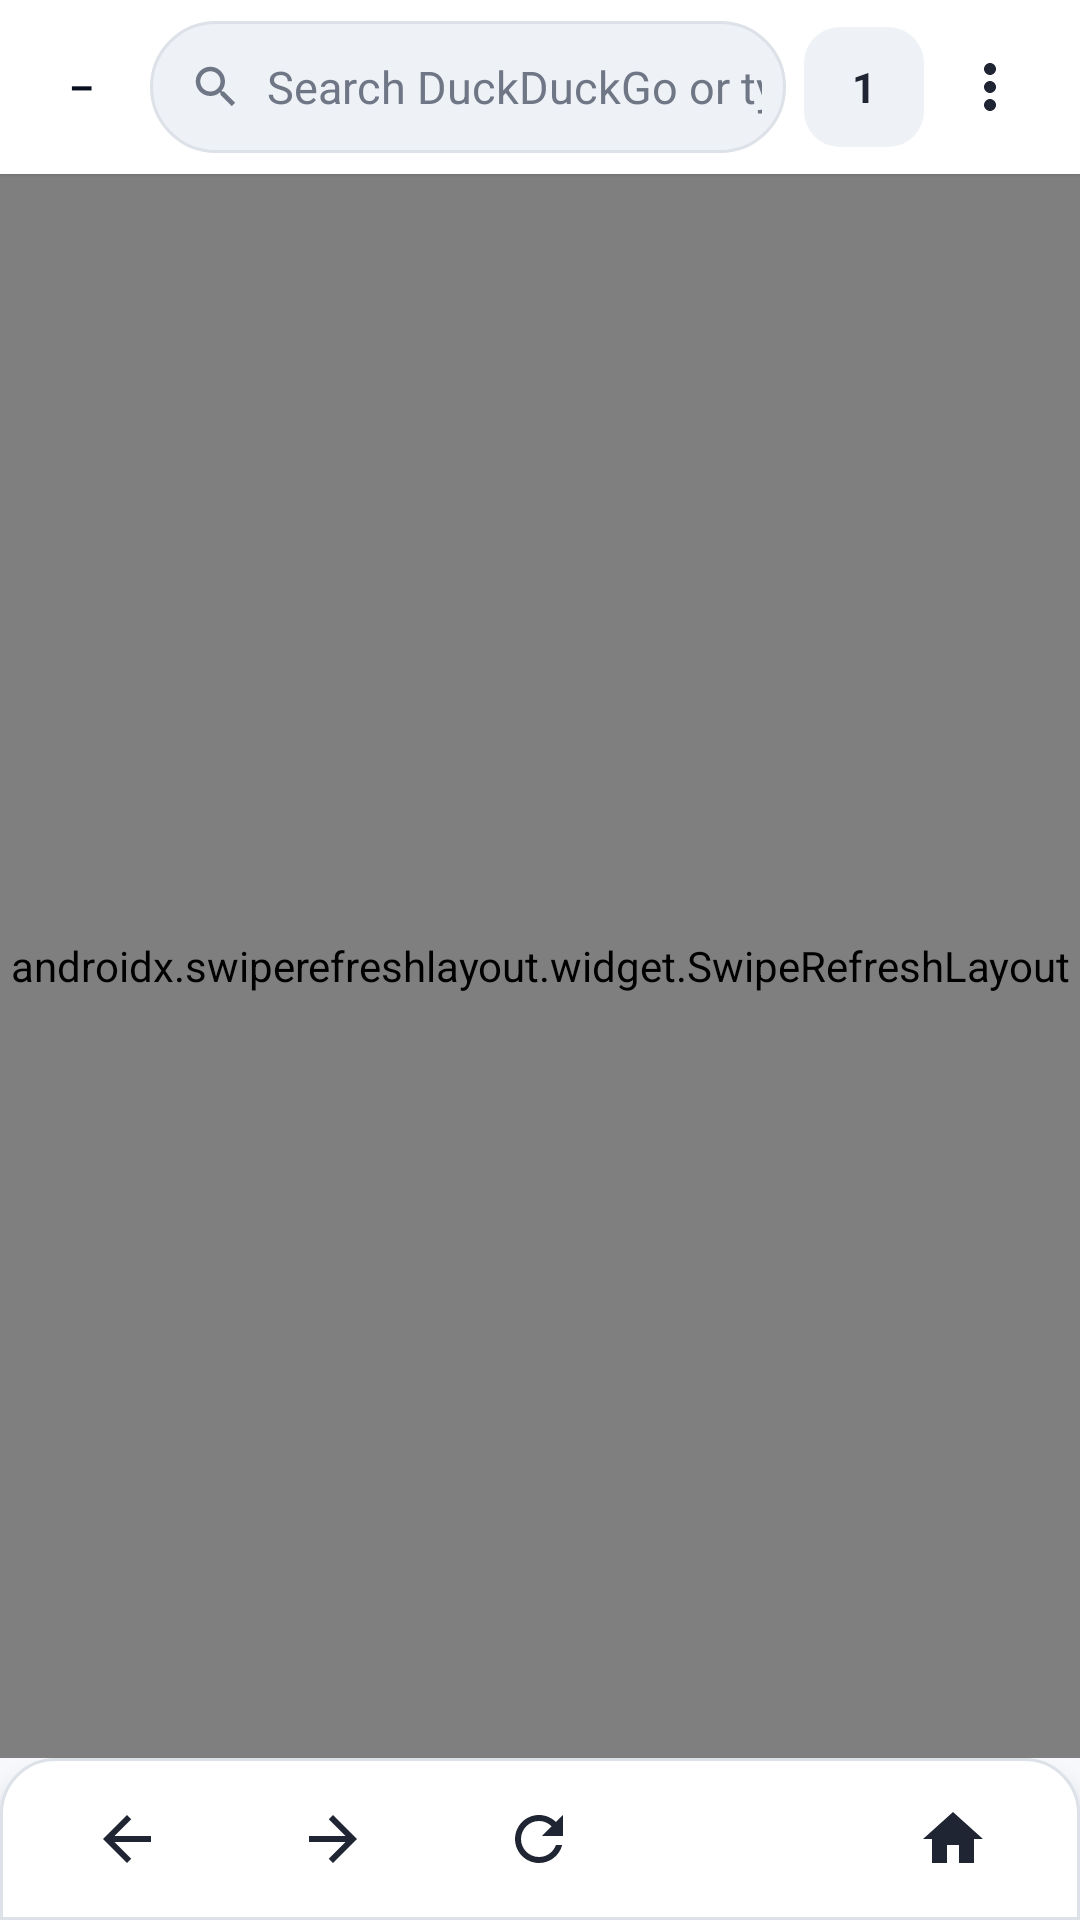

Point at icon controls on the screen. Image size 1080px x 1920px, points as (x=x, y=y).
Back: (x=127, y=1839)
Forward: (x=333, y=1839)
Home: (x=953, y=1837)
Menu: (x=990, y=87)
